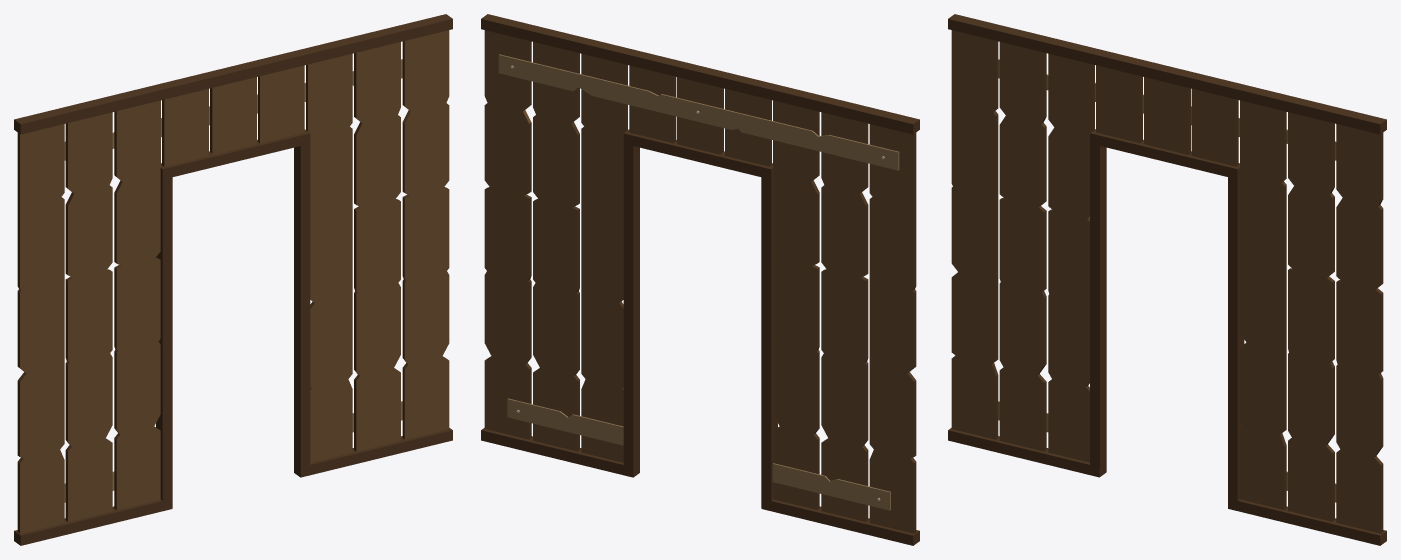
File: wall_door_for_survival_videogame.glb
The picture shows the model from 3 angles, left to right: view 1: azimuth 30°, elevation 25°; view 2: azimuth 150°, elevation 25°; view 3: azimuth 330°, elevation 25°; orthographic projection.
Parts seen in each view (by area): view 1: Cube; view 2: Cube; view 3: Cube.
Part boxes in pixels (bbox=[...]): Cube: bbox=[14, 14, 452, 545]; Cube: bbox=[481, 14, 919, 545]; Cube: bbox=[948, 14, 1386, 545].
Bounding box in the file's own units: 2.69 × 2.51 × 0.072.
Materials: 1 (1 with a texture image).
